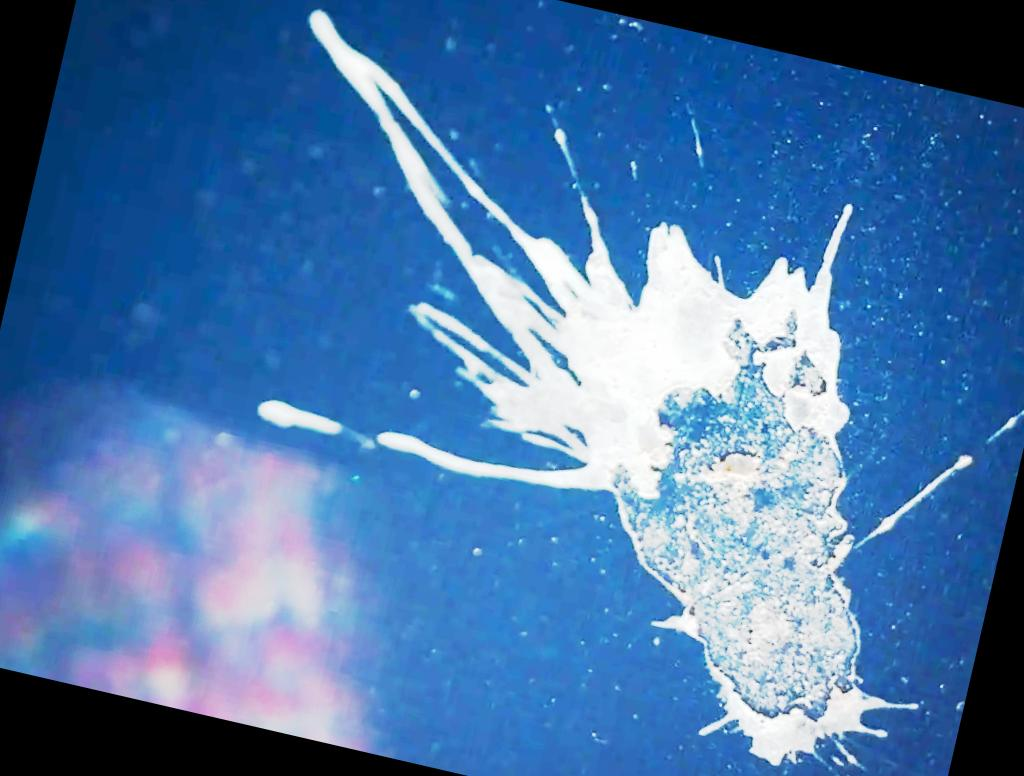Bird Poop: (258, 11, 972, 765), (989, 409, 1024, 443)
